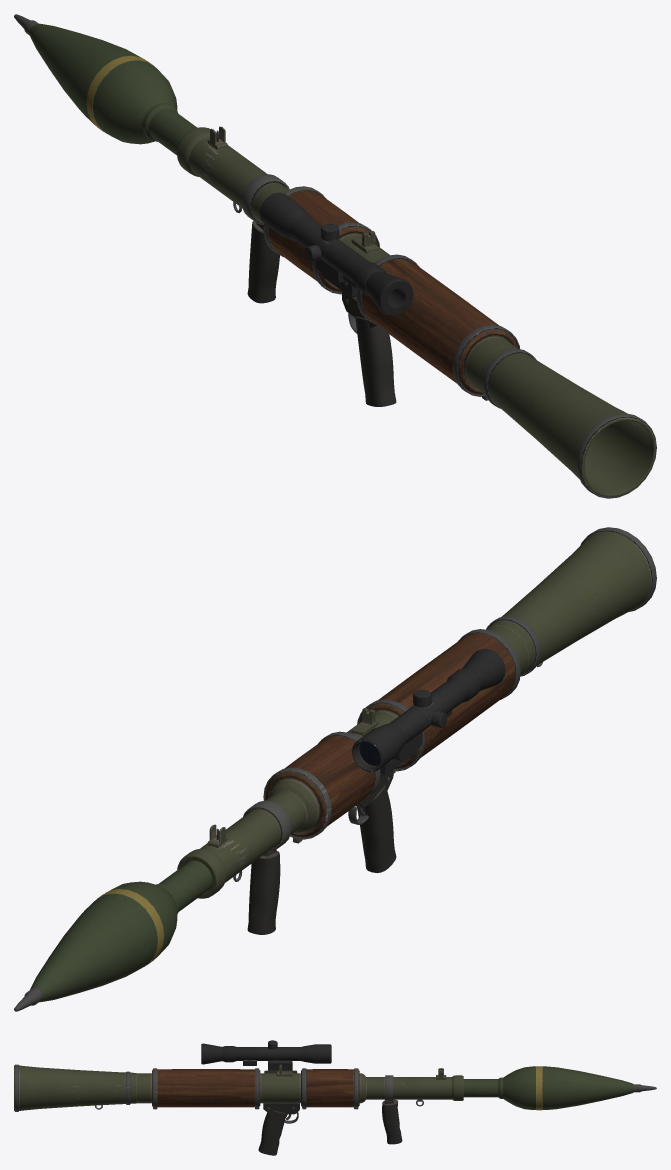
The model's file is weapon_rocket_launcher.glb.
The picture shows the model from 3 angles, top to bottom: view 1: azimuth 30°, elevation 25°; view 2: azimuth 150°, elevation 25°; view 3: azimuth 270°, elevation 25°; orthographic projection. The views are drawn at different scales.
Visible parts, largest first — view 1: Body, Warhead; view 2: Body, Warhead; view 3: Body, Warhead.
Boxes of the visible parts, x1,y1,x2,y2 form: Body: [177, 126, 656, 498]; Warhead: [14, 14, 196, 155]; Body: [177, 527, 656, 934]; Warhead: [14, 860, 212, 1011]; Body: [14, 1040, 463, 1155]; Warhead: [463, 1066, 656, 1110].
Size of the model in its own units: 0.1384 by 0.2334 by 1.36.
Materials: 3 (3 with a texture image).
